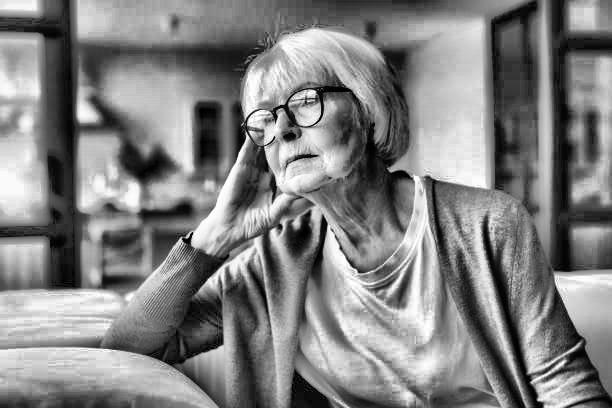sad: (247, 92, 347, 186)
